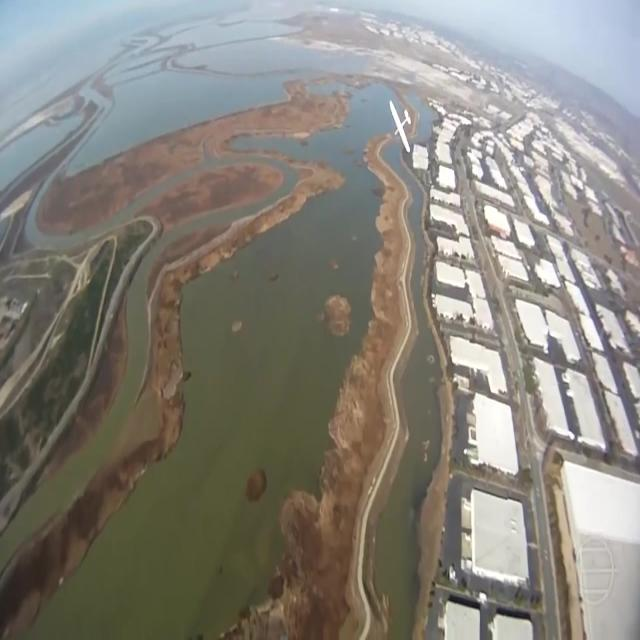iha: (389, 35, 411, 90)
